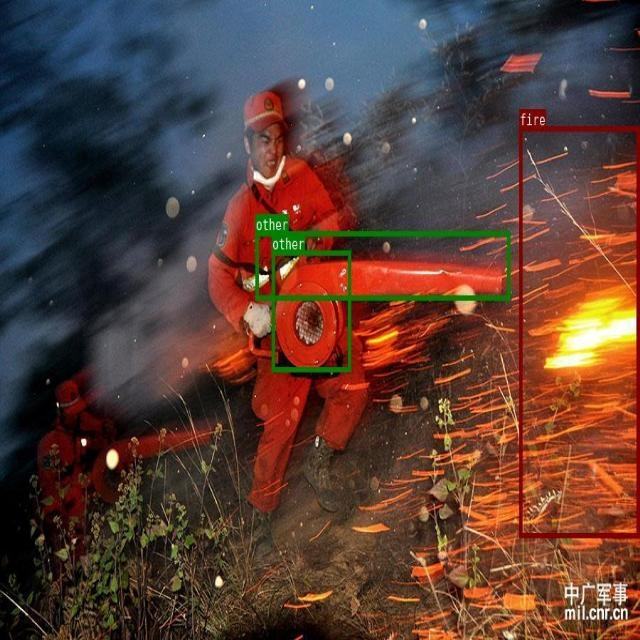fire: (519, 125, 639, 536)
